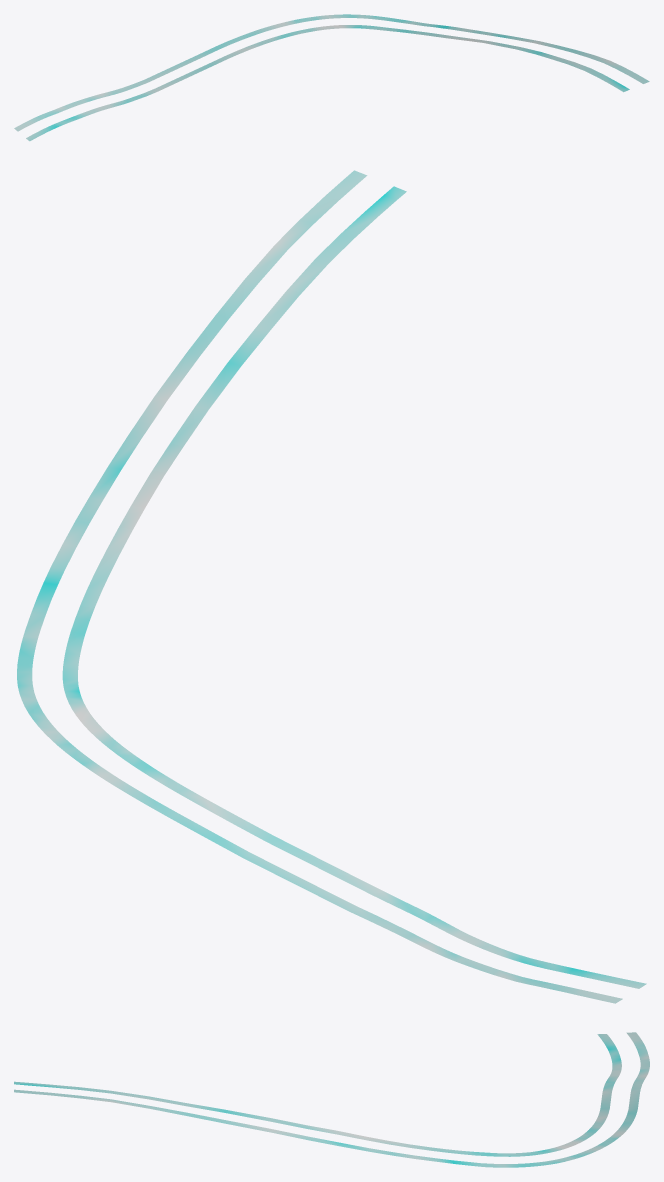
The picture shows the model from 3 angles, top to bottom: view 1: azimuth 30°, elevation 25°; view 2: azimuth 150°, elevation 25°; view 3: azimuth 270°, elevation 25°; orthographic projection. The views are drawn at different scales.
Parts seen in each view (by area): view 1: SpaceCenter_Long3_GenerateRoad_Sand_TireTracks_Narrow_Mesh_x; view 2: SpaceCenter_Long3_GenerateRoad_Sand_TireTracks_Narrow_Mesh_x; view 3: SpaceCenter_Long3_GenerateRoad_Sand_TireTracks_Narrow_Mesh_x.
Part boxes in pixels (x1,y1,x2,y2): SpaceCenter_Long3_GenerateRoad_Sand_TireTracks_Narrow_Mesh_x: (14,14,649,141); SpaceCenter_Long3_GenerateRoad_Sand_TireTracks_Narrow_Mesh_x: (17,170,646,1003); SpaceCenter_Long3_GenerateRoad_Sand_TireTracks_Narrow_Mesh_x: (14,1032,649,1167).
Bounding box in the file's own units: 1464 × 1255 × 437.
